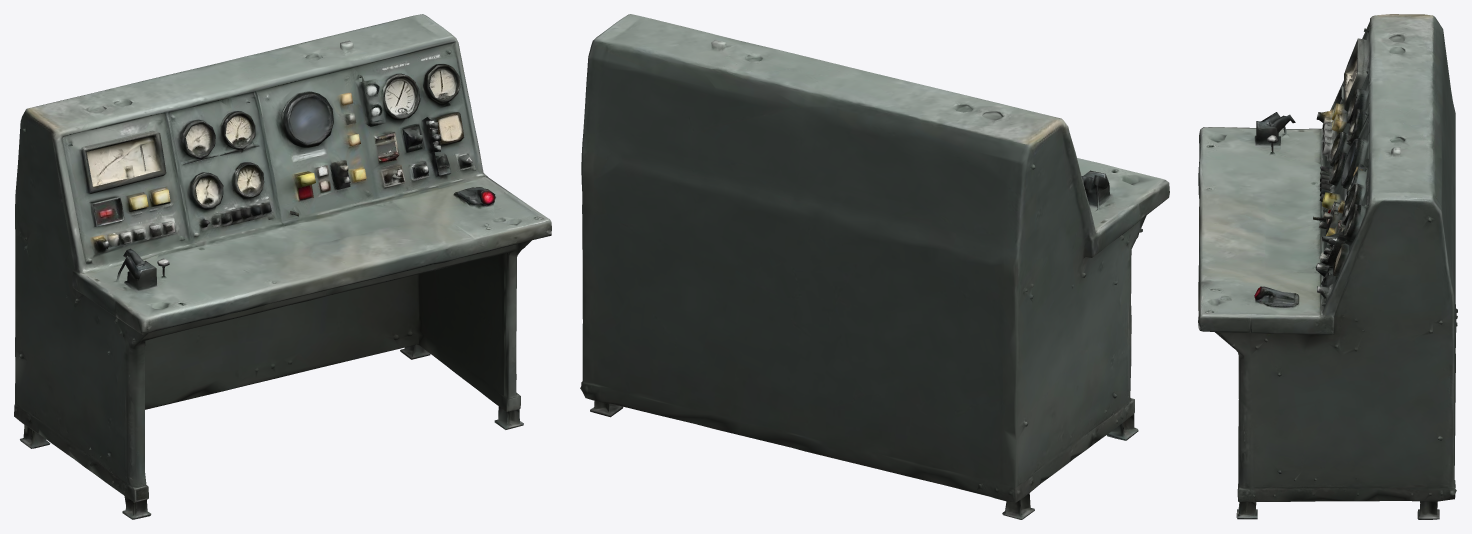
File: console.glb
3 renders of one model, left to right at view 1: azimuth 30°, elevation 25°; view 2: azimuth 150°, elevation 25°; view 3: azimuth 270°, elevation 25°, orthographic. The views are drawn at different scales.
Visible parts, largest first — view 1: tripo_node_a366b009-5012-4e1e-94b6-b4356febdd6e; view 2: tripo_node_a366b009-5012-4e1e-94b6-b4356febdd6e; view 3: tripo_node_a366b009-5012-4e1e-94b6-b4356febdd6e.
Boxes of the visible parts, left/top/right/bottom form: tripo_node_a366b009-5012-4e1e-94b6-b4356febdd6e: left=14, top=14, right=551, bottom=519; tripo_node_a366b009-5012-4e1e-94b6-b4356febdd6e: left=580, top=14, right=1169, bottom=519; tripo_node_a366b009-5012-4e1e-94b6-b4356febdd6e: left=1198, top=14, right=1457, bottom=519.
Bounding box in the file's own units: 0.9969 × 0.7986 × 0.5748.
Materials: 1 (1 with a texture image).
